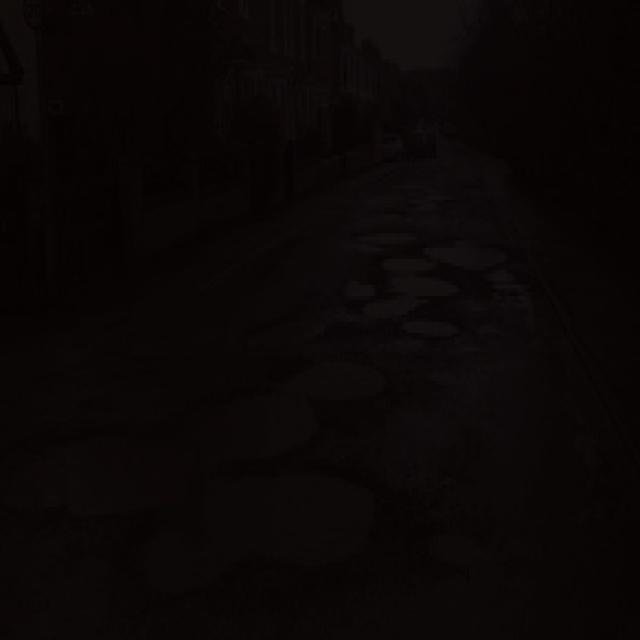Pothole: (12, 401, 377, 590), (272, 355, 389, 410), (374, 256, 454, 336), (245, 295, 343, 354), (427, 227, 523, 273), (354, 216, 418, 258), (401, 316, 467, 344), (339, 276, 384, 305)
